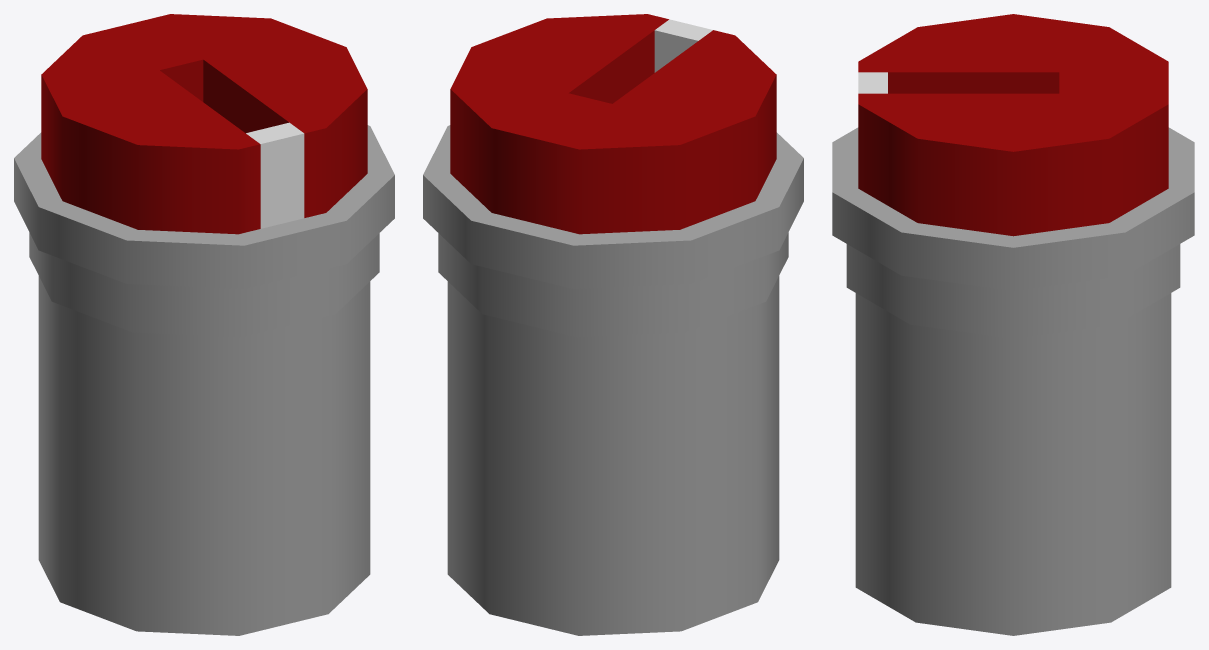
File: Interruttore_con_arresto_a_Chiave.fbx
3 views of the same model, side by side, from view 1: azimuth 30°, elevation 25°; view 2: azimuth 150°, elevation 25°; view 3: azimuth 270°, elevation 25° (orthographic).
Parts seen in each view (by area): view 1: Interruttore_a_Chiave, Parte_dove_inserire_la_Chiave; view 2: Interruttore_a_Chiave, Parte_dove_inserire_la_Chiave; view 3: Interruttore_a_Chiave, Parte_dove_inserire_la_Chiave.
Boxes of the visible parts, left/top/right/bottom form: Interruttore_a_Chiave: left=14, top=125, right=394, bottom=635; Parte_dove_inserire_la_Chiave: left=41, top=14, right=367, bottom=234; Interruttore_a_Chiave: left=423, top=125, right=803, bottom=635; Parte_dove_inserire_la_Chiave: left=450, top=14, right=776, bottom=234; Interruttore_a_Chiave: left=832, top=127, right=1194, bottom=635; Parte_dove_inserire_la_Chiave: left=858, top=14, right=1168, bottom=236.
Size of the model in its own units: 2.3 by 3.21 by 2.18.
